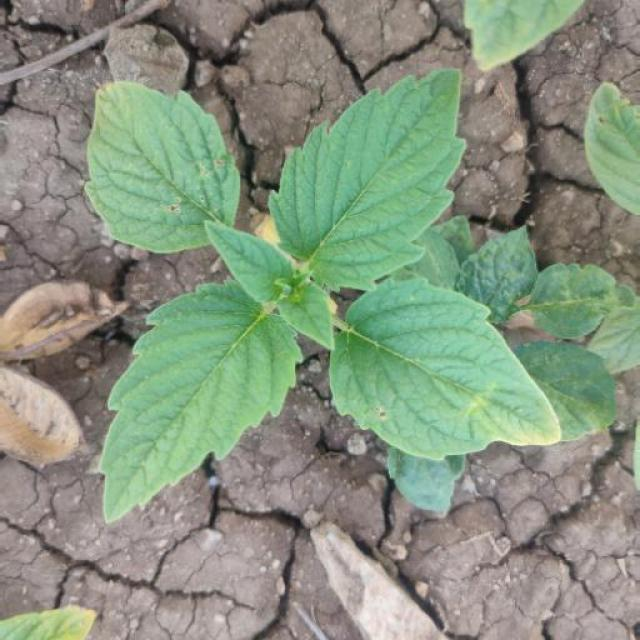crop: (81, 67, 640, 525)
